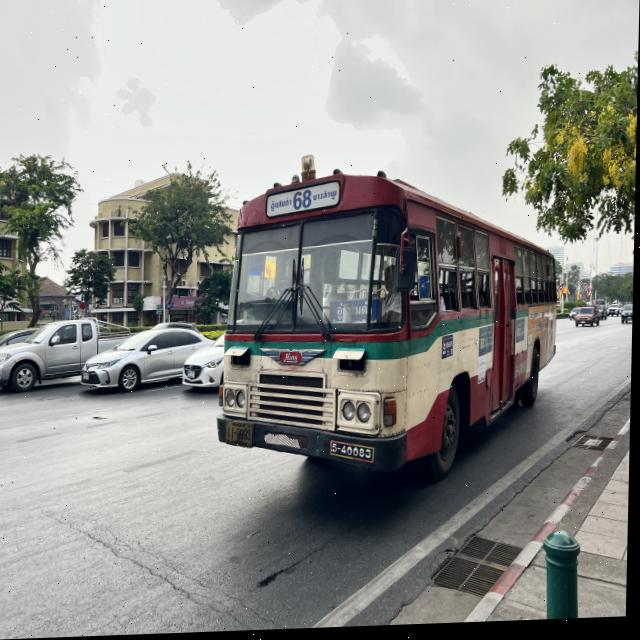BMTA-bus: (218, 175, 561, 485)
Bus Line Number: (267, 188, 340, 219)
Bus Side Number: (331, 440, 377, 470)
Destination Sign: (329, 298, 384, 330)
